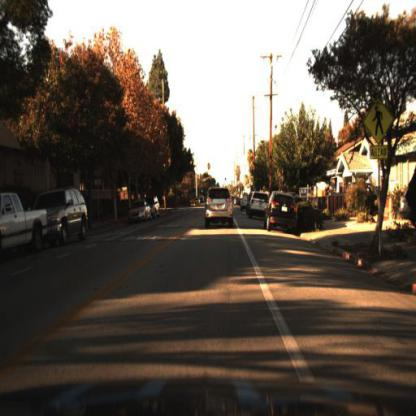car: (2, 192, 51, 267), (32, 185, 91, 246), (34, 187, 90, 247), (262, 188, 300, 236), (204, 184, 235, 232), (246, 185, 273, 221), (127, 195, 149, 224), (129, 200, 152, 227), (250, 191, 268, 221), (147, 194, 161, 222)
